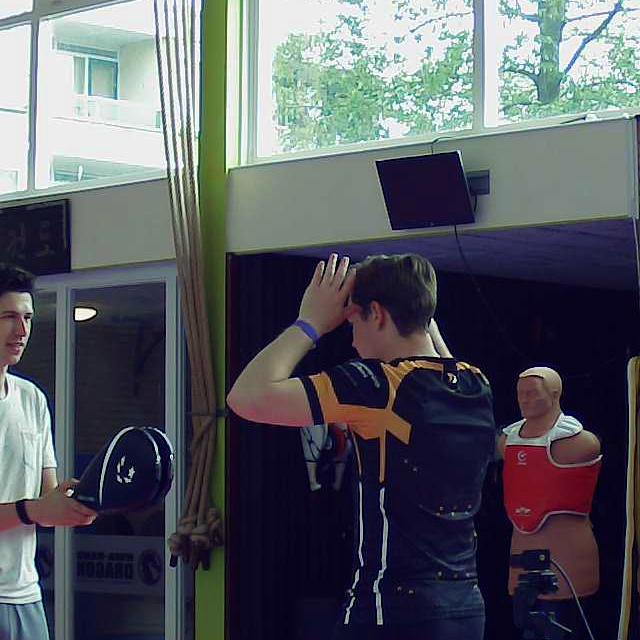paddle: (58, 422, 180, 516)
